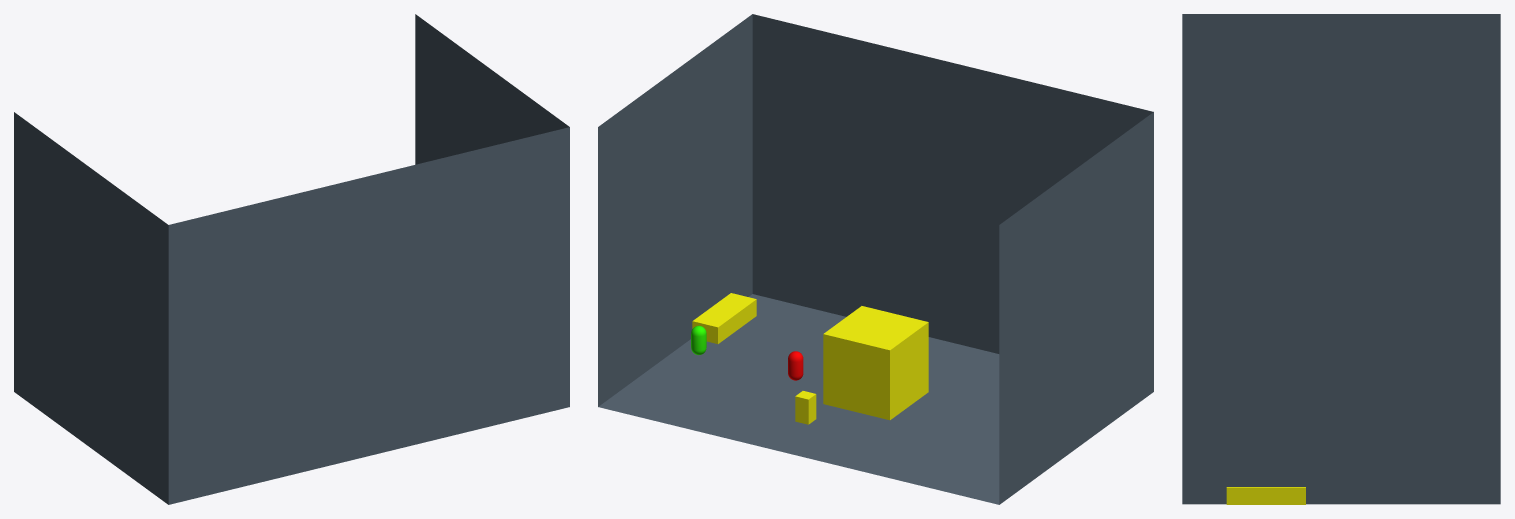
Rendered from ScalingRefference.fbx.
3 renders of one model, left to right at view 1: azimuth 30°, elevation 25°; view 2: azimuth 150°, elevation 25°; view 3: azimuth 270°, elevation 25°, orthographic. The views are drawn at different scales.
Parts seen in each view (by area): view 1: Walls03, Walls01, Walls02; view 2: Walls03, Walls01, Walls02, Floor, Cube, Cube_1, Cube__2_; view 3: Walls02, Walls01, Cube_1.
Boxes of the visible parts, bbox=[...] form: Walls03: bbox=[168, 127, 569, 504]; Walls01: bbox=[14, 112, 168, 504]; Walls02: bbox=[415, 14, 569, 164]; Walls03: bbox=[752, 14, 1153, 353]; Walls01: bbox=[999, 112, 1153, 504]; Walls02: bbox=[598, 14, 752, 406]; Floor: bbox=[598, 294, 999, 504]; Cube: bbox=[823, 306, 928, 420]; Cube_1: bbox=[692, 293, 756, 343]; Cube__2_: bbox=[795, 391, 816, 424]; Walls02: bbox=[1182, 216, 1500, 504]; Walls01: bbox=[1182, 14, 1500, 215]; Cube_1: bbox=[1226, 487, 1305, 504].
Size of the model in its own units: 15040 by 10000 by 10000.
